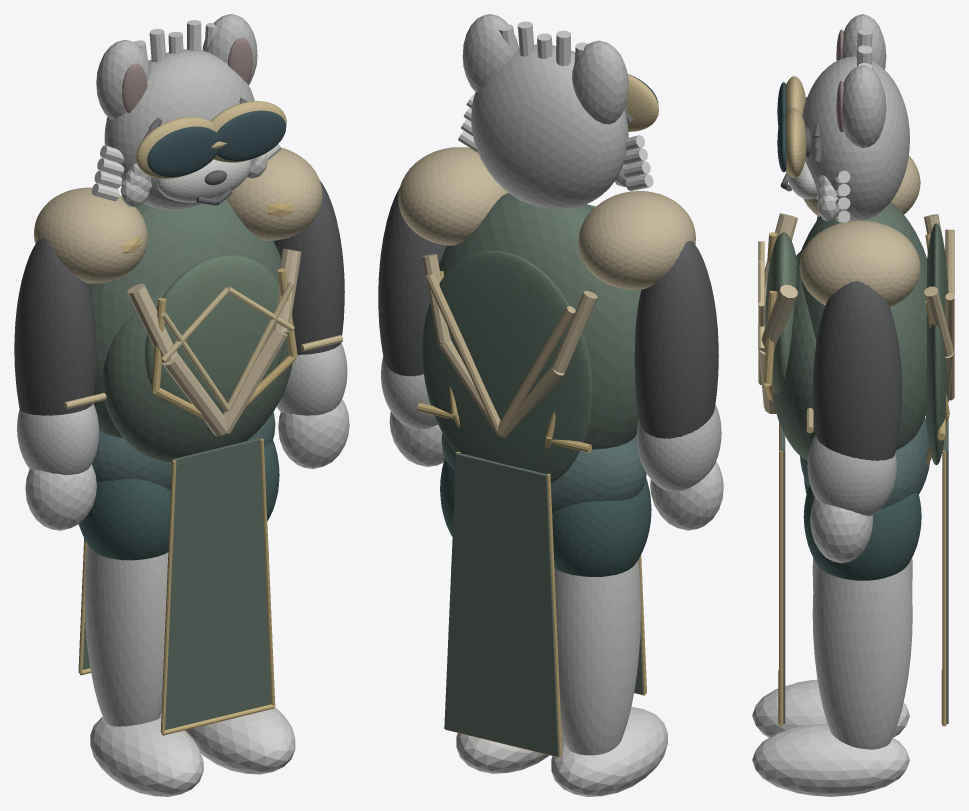
The model's file is high_prototype (6).glb.
3 views of the same model, side by side, from view 1: azimuth 30°, elevation 25°; view 2: azimuth 150°, elevation 25°; view 3: azimuth 270°, elevation 25° (orthographic). The views are drawn at different scales.
Parts seen in each view (by area): view 1: front_hanging_fabric_062, leg_-1_004, arm_-1_006, chest_armor_055, torso_001, belly_clothing_003, head_016, gold_shoulder_-1_075, paw_-1_005, arm_1_012, short_leg_-1_060, gold_shoulder_1_080 (+25 smaller); view 2: back_hanging_fabric_066, back_coat_051, head_016, torso_001, leg_-1_004, arm_-1_006, gold_shoulder_-1_075, gold_shoulder_1_080, arm_1_012, short_leg_-1_060, paw_-1_005, hips_002 (+14 smaller); view 3: leg_1_010, arm_1_012, head_016, paw_1_011, gold_shoulder_1_080, torso_001, short_leg_1_061, white_forearm_1_081, belly_clothing_003, back_coat_051, ear_1_014, paw_-1_005 (+21 smaller).
Boxes of the visible parts, box(x1,y1,x2,y2) form: front_hanging_fabric_062: box(160, 438, 271, 731); leg_-1_004: box(84, 544, 168, 726); arm_-1_006: box(14, 238, 96, 415); chest_armor_055: box(145, 255, 286, 403); torso_001: box(89, 197, 281, 437); belly_clothing_003: box(102, 289, 292, 462); head_016: box(104, 49, 254, 209); gold_shoulder_-1_075: box(34, 187, 147, 283); paw_-1_005: box(90, 716, 203, 796); arm_1_012: box(274, 181, 344, 354); short_leg_-1_060: box(79, 479, 170, 560); gold_shoulder_1_080: box(226, 147, 322, 240); back_hanging_fabric_066: box(444, 452, 558, 756); back_coat_051: box(422, 250, 592, 483); head_016: box(471, 44, 628, 209); torso_001: box(439, 193, 640, 449); leg_-1_004: box(554, 560, 640, 755); arm_-1_006: box(634, 241, 718, 438); gold_shoulder_-1_075: box(578, 191, 695, 289); gold_shoulder_1_080: box(398, 147, 508, 245); arm_1_012: box(378, 187, 446, 376); short_leg_-1_060: box(552, 477, 651, 576); paw_-1_005: box(551, 707, 667, 796); hips_002: box(441, 433, 646, 512); leg_1_010: box(812, 563, 912, 749); arm_1_012: box(812, 281, 902, 460); head_016: box(802, 56, 909, 221); paw_1_011: box(752, 723, 909, 796); gold_shoulder_1_080: box(799, 220, 920, 307); torso_001: box(799, 202, 926, 449); short_leg_1_061: box(803, 485, 921, 580); white_forearm_1_081: box(807, 434, 896, 516); belly_clothing_003: box(773, 251, 816, 460); back_coat_051: box(925, 223, 948, 465); ear_1_014: box(842, 65, 886, 147); paw_-1_005: box(752, 679, 909, 737).
Size of the model in its own units: 0.69 by 1.53 by 0.385.
